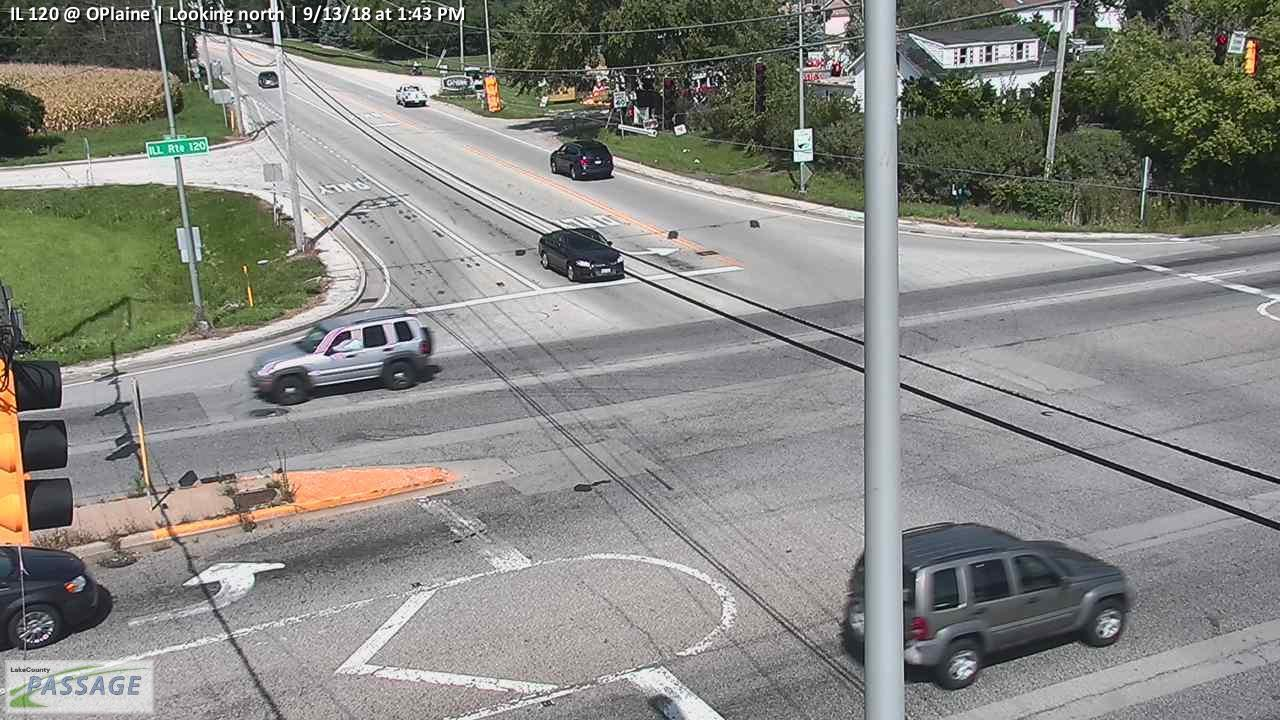SUV: (844, 520, 1131, 693), (247, 306, 432, 407), (550, 140, 614, 180)
Sedan: (538, 227, 625, 284), (257, 70, 279, 89)
Truck: (396, 83, 429, 108)
